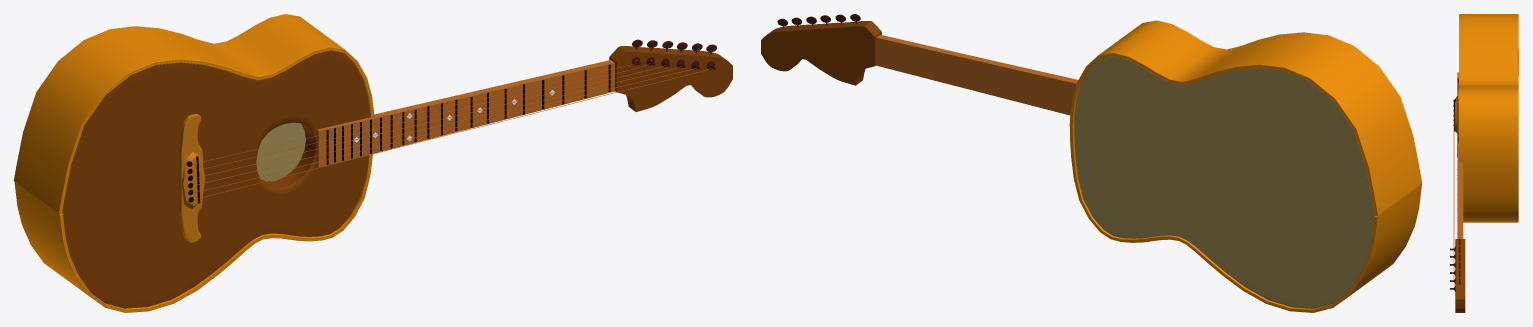
Rendered from guitar_0321b21b.glb.
The picture shows the model from 3 angles, left to right: view 1: azimuth 30°, elevation 25°; view 2: azimuth 150°, elevation 25°; view 3: azimuth 270°, elevation 25°; orthographic projection. The views are drawn at different scales.
Visible parts, largest first — view 1: Object_3, Object_7, Object_8, Object_2, Object_11, Object_6, Object_4, Object_15; view 2: Object_4, Object_7, Object_8, Object_2; view 3: Object_7, Object_2, Object_8, Object_11, Object_6, Object_10, Object_15, Object_12.
Part boxes in pixels (left/top/right/bottom): Object_3: left=62, top=50, right=369, bottom=308; Object_7: left=14, top=14, right=374, bottom=312; Object_8: left=316, top=60, right=614, bottom=167; Object_2: left=609, top=46, right=732, bottom=111; Object_11: left=192, top=60, right=711, bottom=199; Object_6: left=179, top=114, right=204, bottom=242; Object_4: left=256, top=122, right=305, bottom=181; Object_15: left=326, top=64, right=610, bottom=164; Object_4: left=1074, top=56, right=1374, bottom=308; Object_7: left=1069, top=20, right=1421, bottom=312; Object_8: left=876, top=34, right=1077, bottom=115; Object_2: left=761, top=21, right=881, bottom=85; Object_7: left=1459, top=14, right=1518, bottom=222; Object_2: left=1455, top=239, right=1465, bottom=312; Object_8: left=1458, top=144, right=1463, bottom=238; Object_11: left=1453, top=102, right=1454, bottom=290; Object_6: left=1455, top=72, right=1458, bottom=157; Object_10: left=1450, top=246, right=1455, bottom=291; Object_15: left=1457, top=147, right=1457, bottom=238; Object_12: left=1459, top=238, right=1460, bottom=284.
Bounding box in the file's own units: 7.46 × 2.63 × 1.
